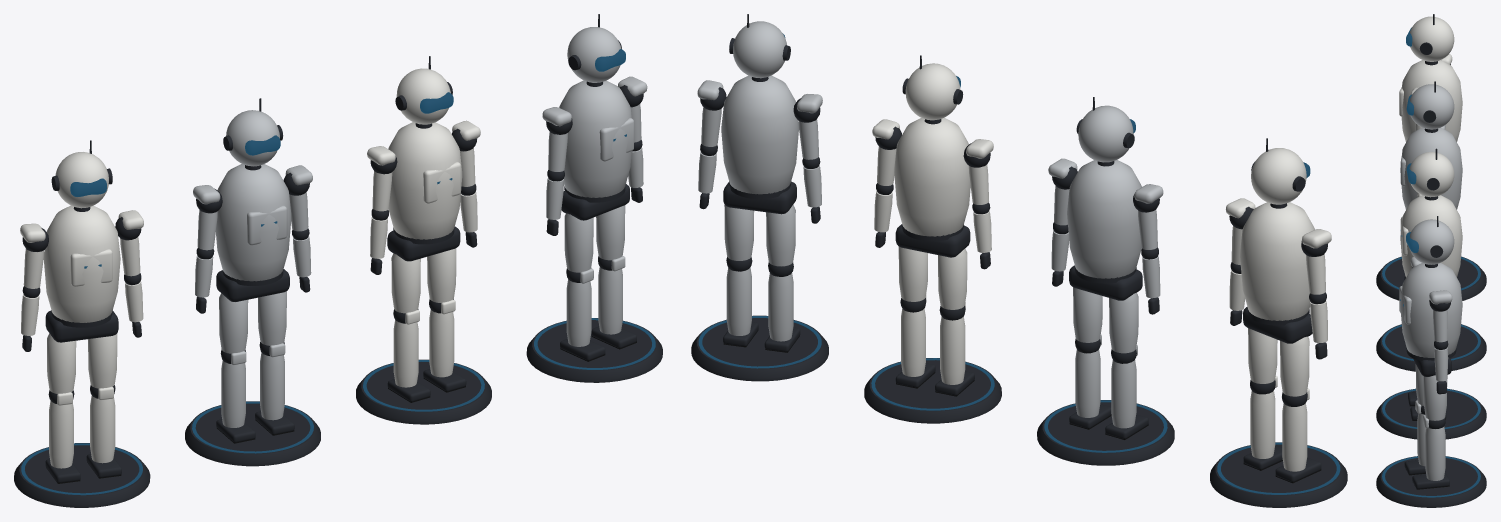
Rendered from idle_robots.glb.
3 views of the same model, side by side, from view 1: azimuth 30°, elevation 25°; view 2: azimuth 150°, elevation 25°; view 3: azimuth 270°, elevation 25° (orthographic). The views are drawn at different scales.
Visible parts, largest first — view 1: standsBody, idle0Mesh, idle2Mesh, idle1Mesh, idle3Mesh, idle1HeadMesh, idle2HeadMesh, idle0HeadMesh, idle3HeadMesh, idle3ArmMeshL, idle1ArmMeshL, idle2ArmMeshL (+12 smaller); view 2: standsBody, idle3Mesh, idle2Mesh, idle1Mesh, idle0Mesh, idle2HeadMesh, idle1HeadMesh, idle3HeadMesh, idle0HeadMesh, idle0ArmMeshL, idle2ArmMeshL, idle1ArmMeshL (+12 smaller); view 3: standsBody, idle3Mesh, idle2Mesh, idle1Mesh, idle0Mesh, idle2HeadMesh, idle1HeadMesh, idle0HeadMesh, idle3HeadMesh, idle3ArmMeshR, idle3ForeMeshR.
Boxes of the visible parts, x1=… form: standsBody: x1=14, y1=318, x2=662, y2=507; idle0Mesh: x1=43, y1=205, x2=121, y2=483; idle2Mesh: x1=387, y1=122, x2=466, y2=402; idle1Mesh: x1=216, y1=164, x2=294, y2=443; idle3Mesh: x1=559, y1=80, x2=636, y2=361; idle1HeadMesh: x1=223, y1=98, x2=283, y2=166; idle2HeadMesh: x1=395, y1=56, x2=453, y2=124; idle0HeadMesh: x1=51, y1=140, x2=112, y2=208; idle3HeadMesh: x1=567, y1=14, x2=625, y2=82; idle3ArmMeshL: x1=542, y1=107, x2=572, y2=181; idle1ArmMeshL: x1=193, y1=185, x2=222, y2=259; idle2ArmMeshL: x1=367, y1=146, x2=397, y2=220; standsBody: x1=691, y1=315, x2=1347, y2=507; idle3Mesh: x1=721, y1=75, x2=800, y2=352; idle2Mesh: x1=894, y1=117, x2=974, y2=396; idle1Mesh: x1=1067, y1=160, x2=1148, y2=439; idle0Mesh: x1=1240, y1=202, x2=1321, y2=483; idle2HeadMesh: x1=902, y1=55, x2=963, y2=120; idle1HeadMesh: x1=1076, y1=97, x2=1135, y2=162; idle3HeadMesh: x1=729, y1=14, x2=790, y2=78; idle0HeadMesh: x1=1251, y1=138, x2=1310, y2=204; idle0ArmMeshL: x1=1301, y1=229, x2=1331, y2=304; idle2ArmMeshL: x1=963, y1=139, x2=993, y2=214; idle1ArmMeshL: x1=1133, y1=184, x2=1163, y2=259; standsBody: x1=1376, y1=256, x2=1486, y2=507; idle3Mesh: x1=1399, y1=263, x2=1462, y2=489; idle2Mesh: x1=1400, y1=195, x2=1462, y2=420; idle1Mesh: x1=1400, y1=127, x2=1462, y2=209; idle0Mesh: x1=1399, y1=60, x2=1462, y2=279; idle2HeadMesh: x1=1406, y1=148, x2=1454, y2=197; idle1HeadMesh: x1=1406, y1=81, x2=1454, y2=129; idle0HeadMesh: x1=1406, y1=14, x2=1454, y2=61; idle3HeadMesh: x1=1406, y1=216, x2=1454, y2=264; idle3ArmMeshR: x1=1429, y1=290, x2=1452, y2=349; idle3ForeMeshR: x1=1434, y1=347, x2=1448, y2=394.
Size of the model in its own units: 4.06 by 2.06 by 0.7601.
